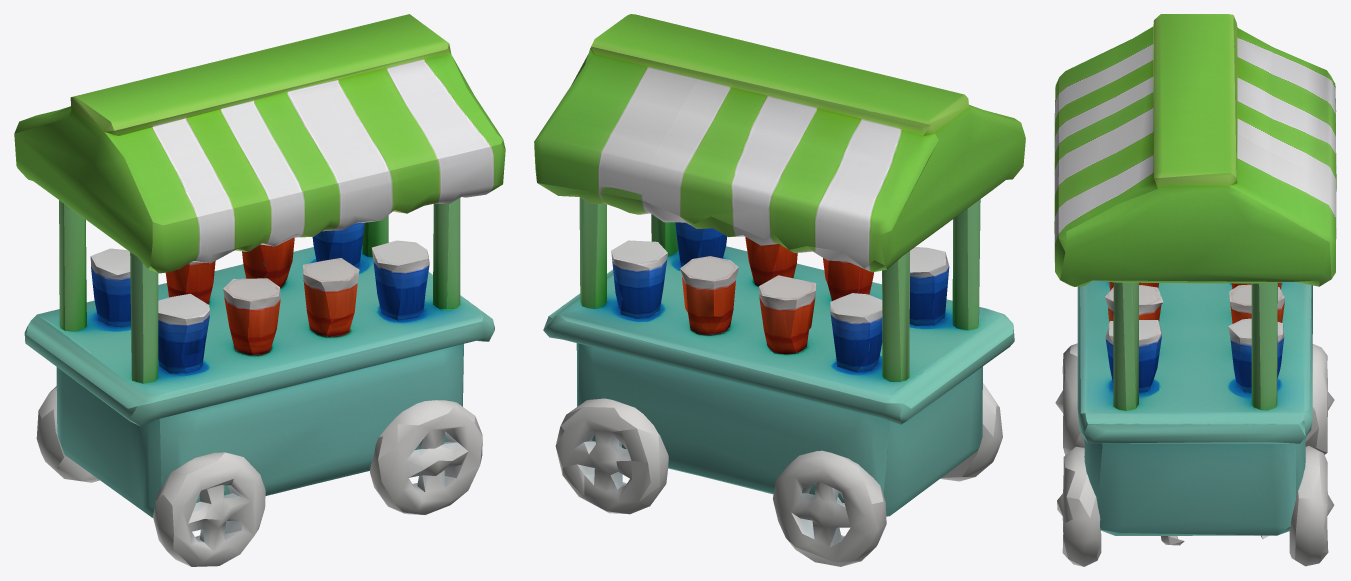
File: Prop_FoodCartMesh_AI.glb
3 renders of one model, left to right at view 1: azimuth 30°, elevation 25°; view 2: azimuth 150°, elevation 25°; view 3: azimuth 270°, elevation 25°, orthographic. The views are drawn at different scales.
Parts seen in each view (by area): view 1: Prop_FoodCartMesh_AI; view 2: Prop_FoodCartMesh_AI; view 3: Prop_FoodCartMesh_AI.
Part boxes in pixels (x1,y1,x2,y2): Prop_FoodCartMesh_AI: (14, 14, 505, 566); Prop_FoodCartMesh_AI: (534, 14, 1025, 566); Prop_FoodCartMesh_AI: (1054, 14, 1336, 566).
Size of the model in its own units: 2.05 by 2.3 by 1.41.
3 materials, 3 textured.
